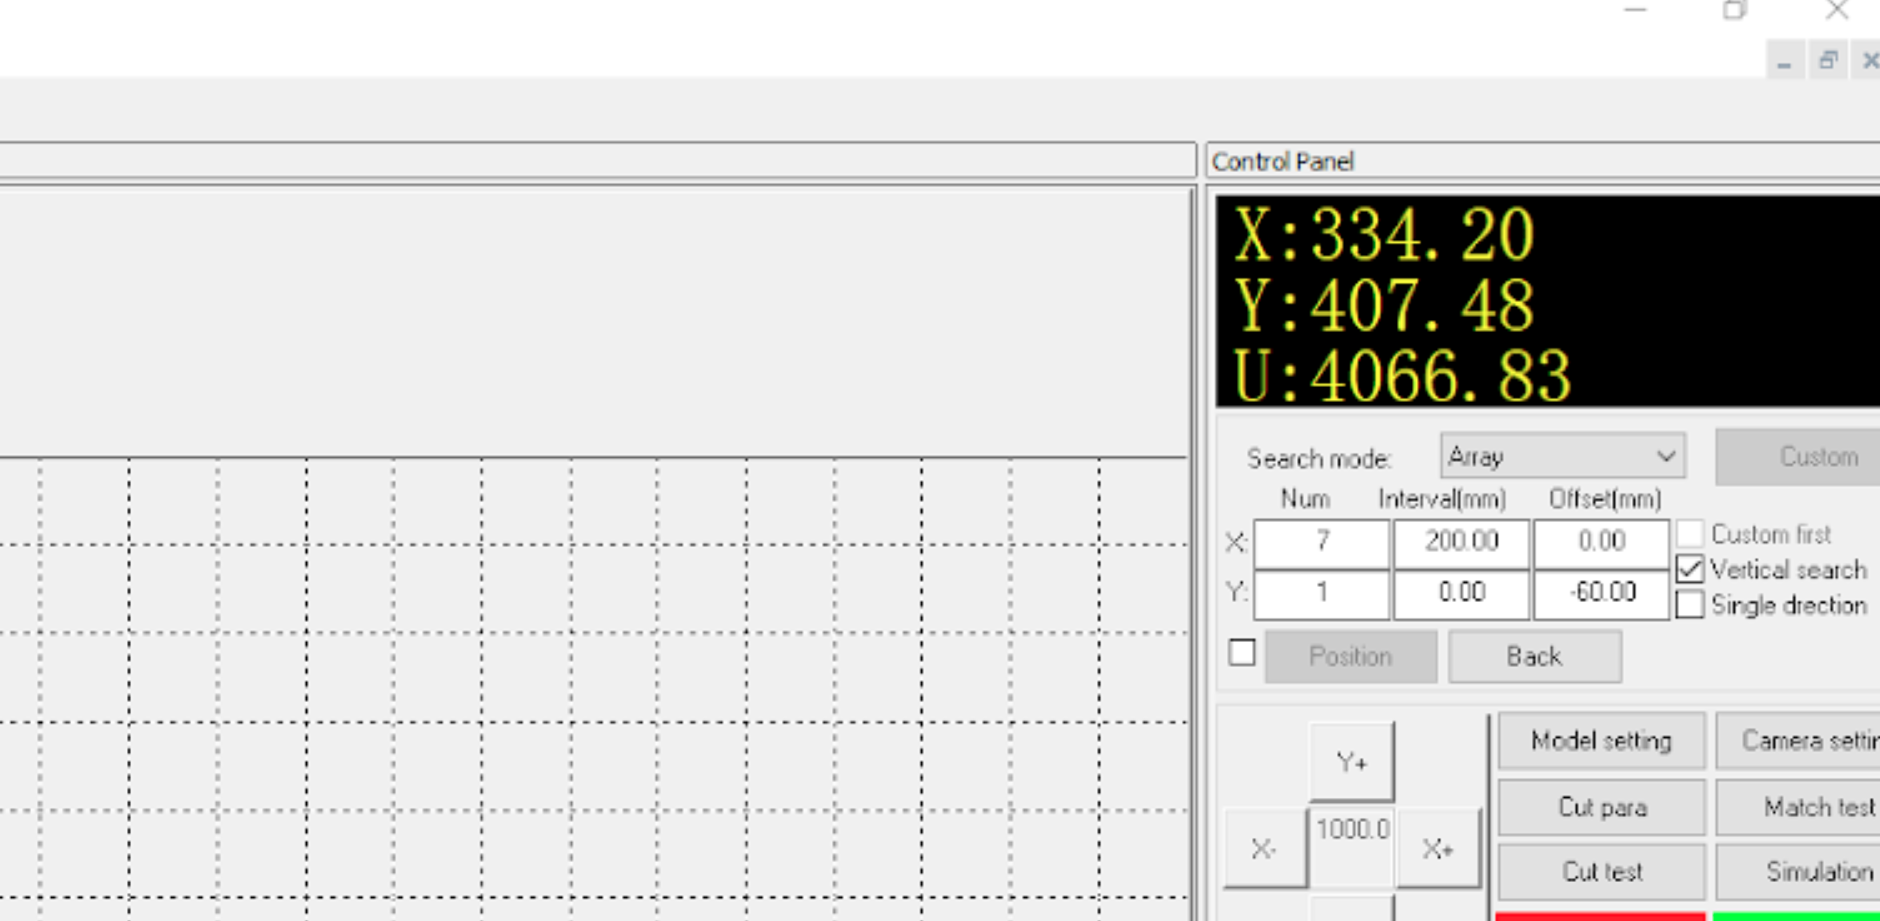timer: (1539, 478, 1675, 619)
